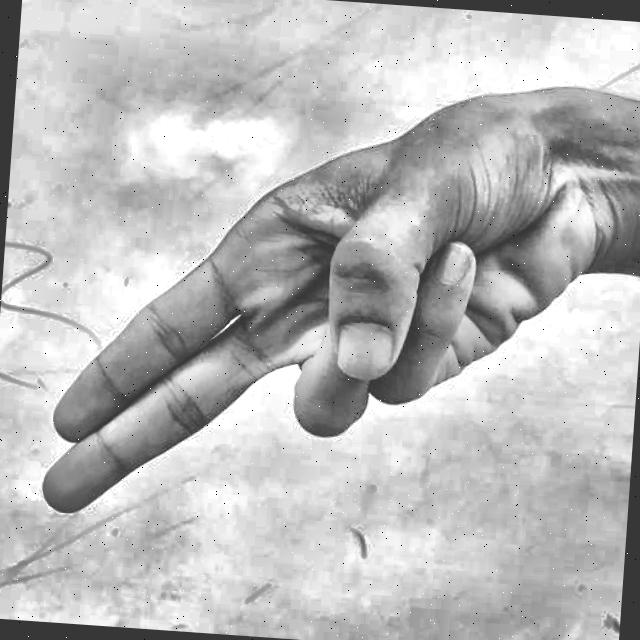Ha: (15, 27, 622, 620)
